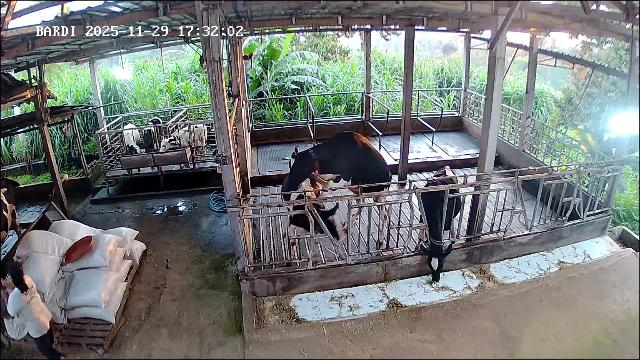mounting: (286, 131, 392, 236)
